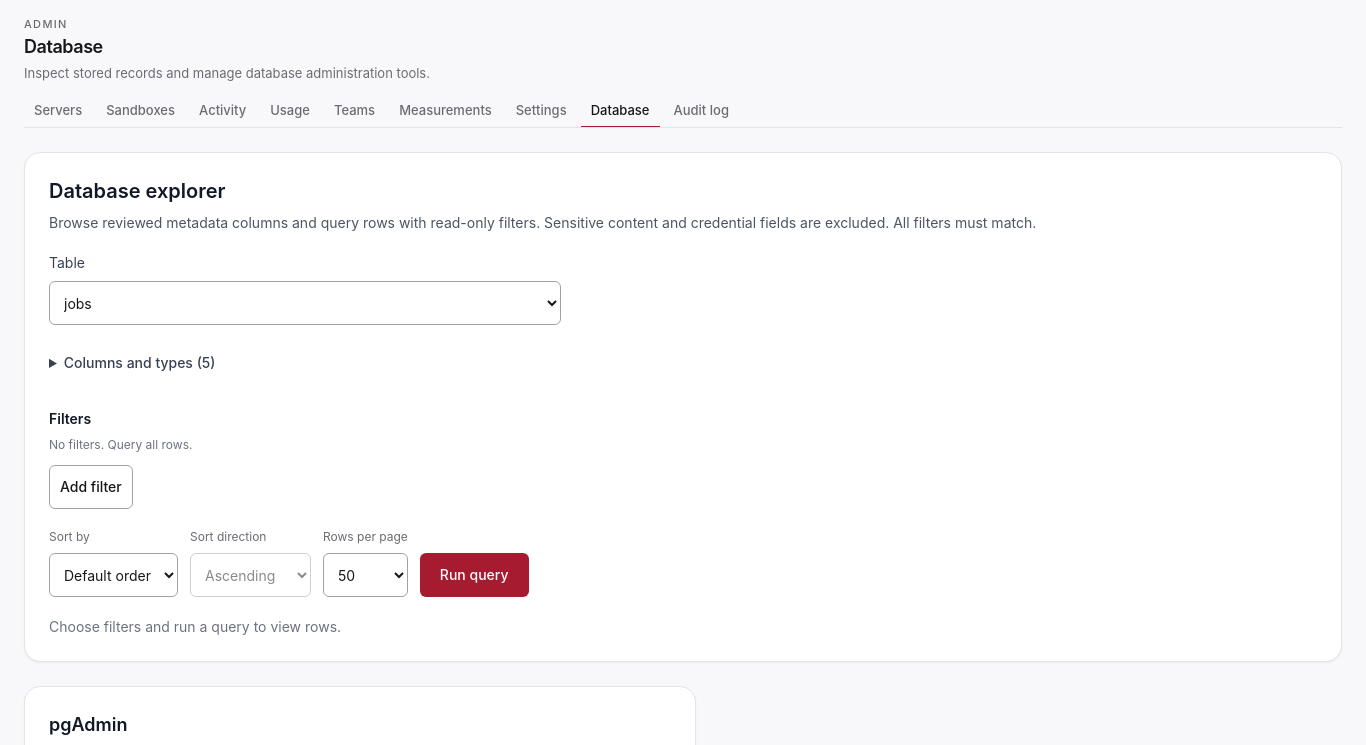
Scenario: Admin Database › offers refinement when the server pagination boundary is reached
The width and height of the screenshot is (1366, 745).
Expected: the dropdown labelled "Table" is shown, x1=49 y1=281 x2=561 y2=325
Click the button "Run query" at coordinates (474, 575), box x1=420 y1=553 x2=528 y2=597
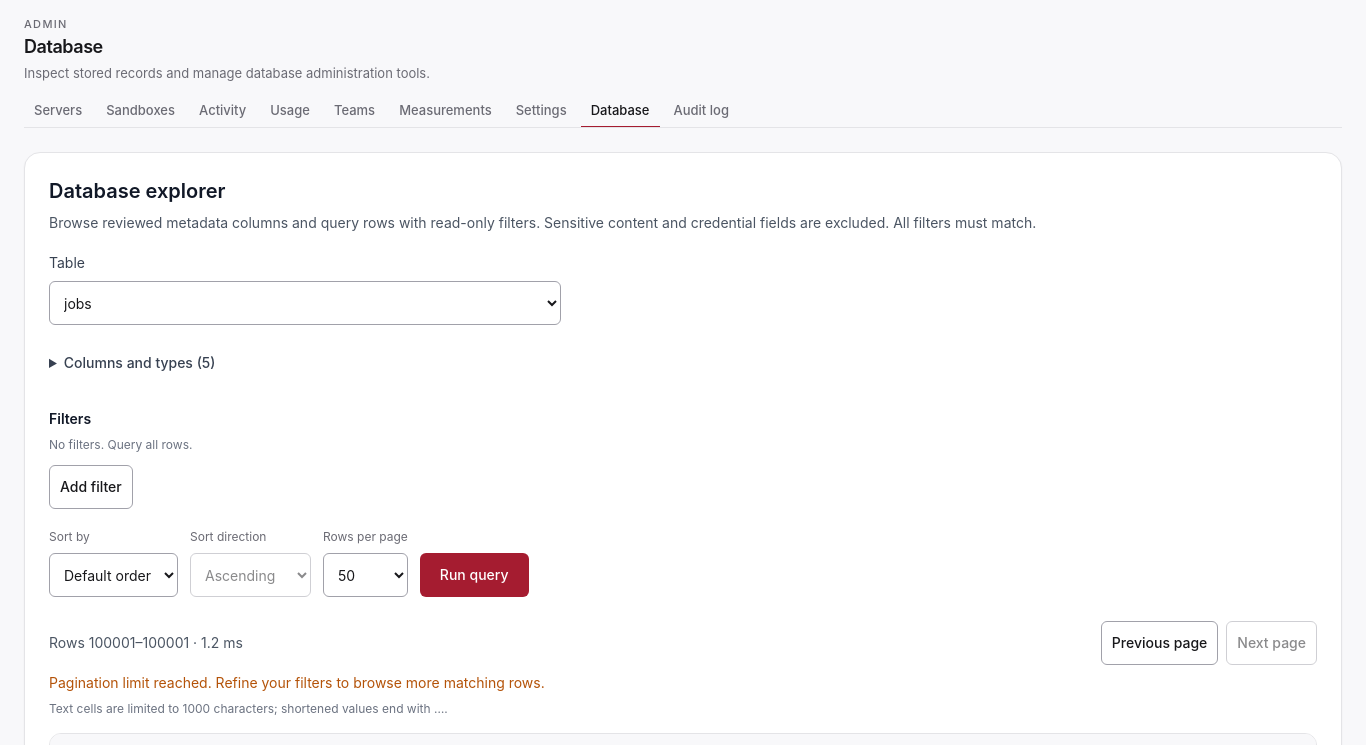
Result: the text "Pagination limit reached" is shown at x1=49 y1=674 x2=545 y2=691
Result: the button "Next page" is disabled at x1=1226 y1=621 x2=1317 y2=665
Result: the button "Previous page" is enabled at x1=1101 y1=621 x2=1218 y2=665
